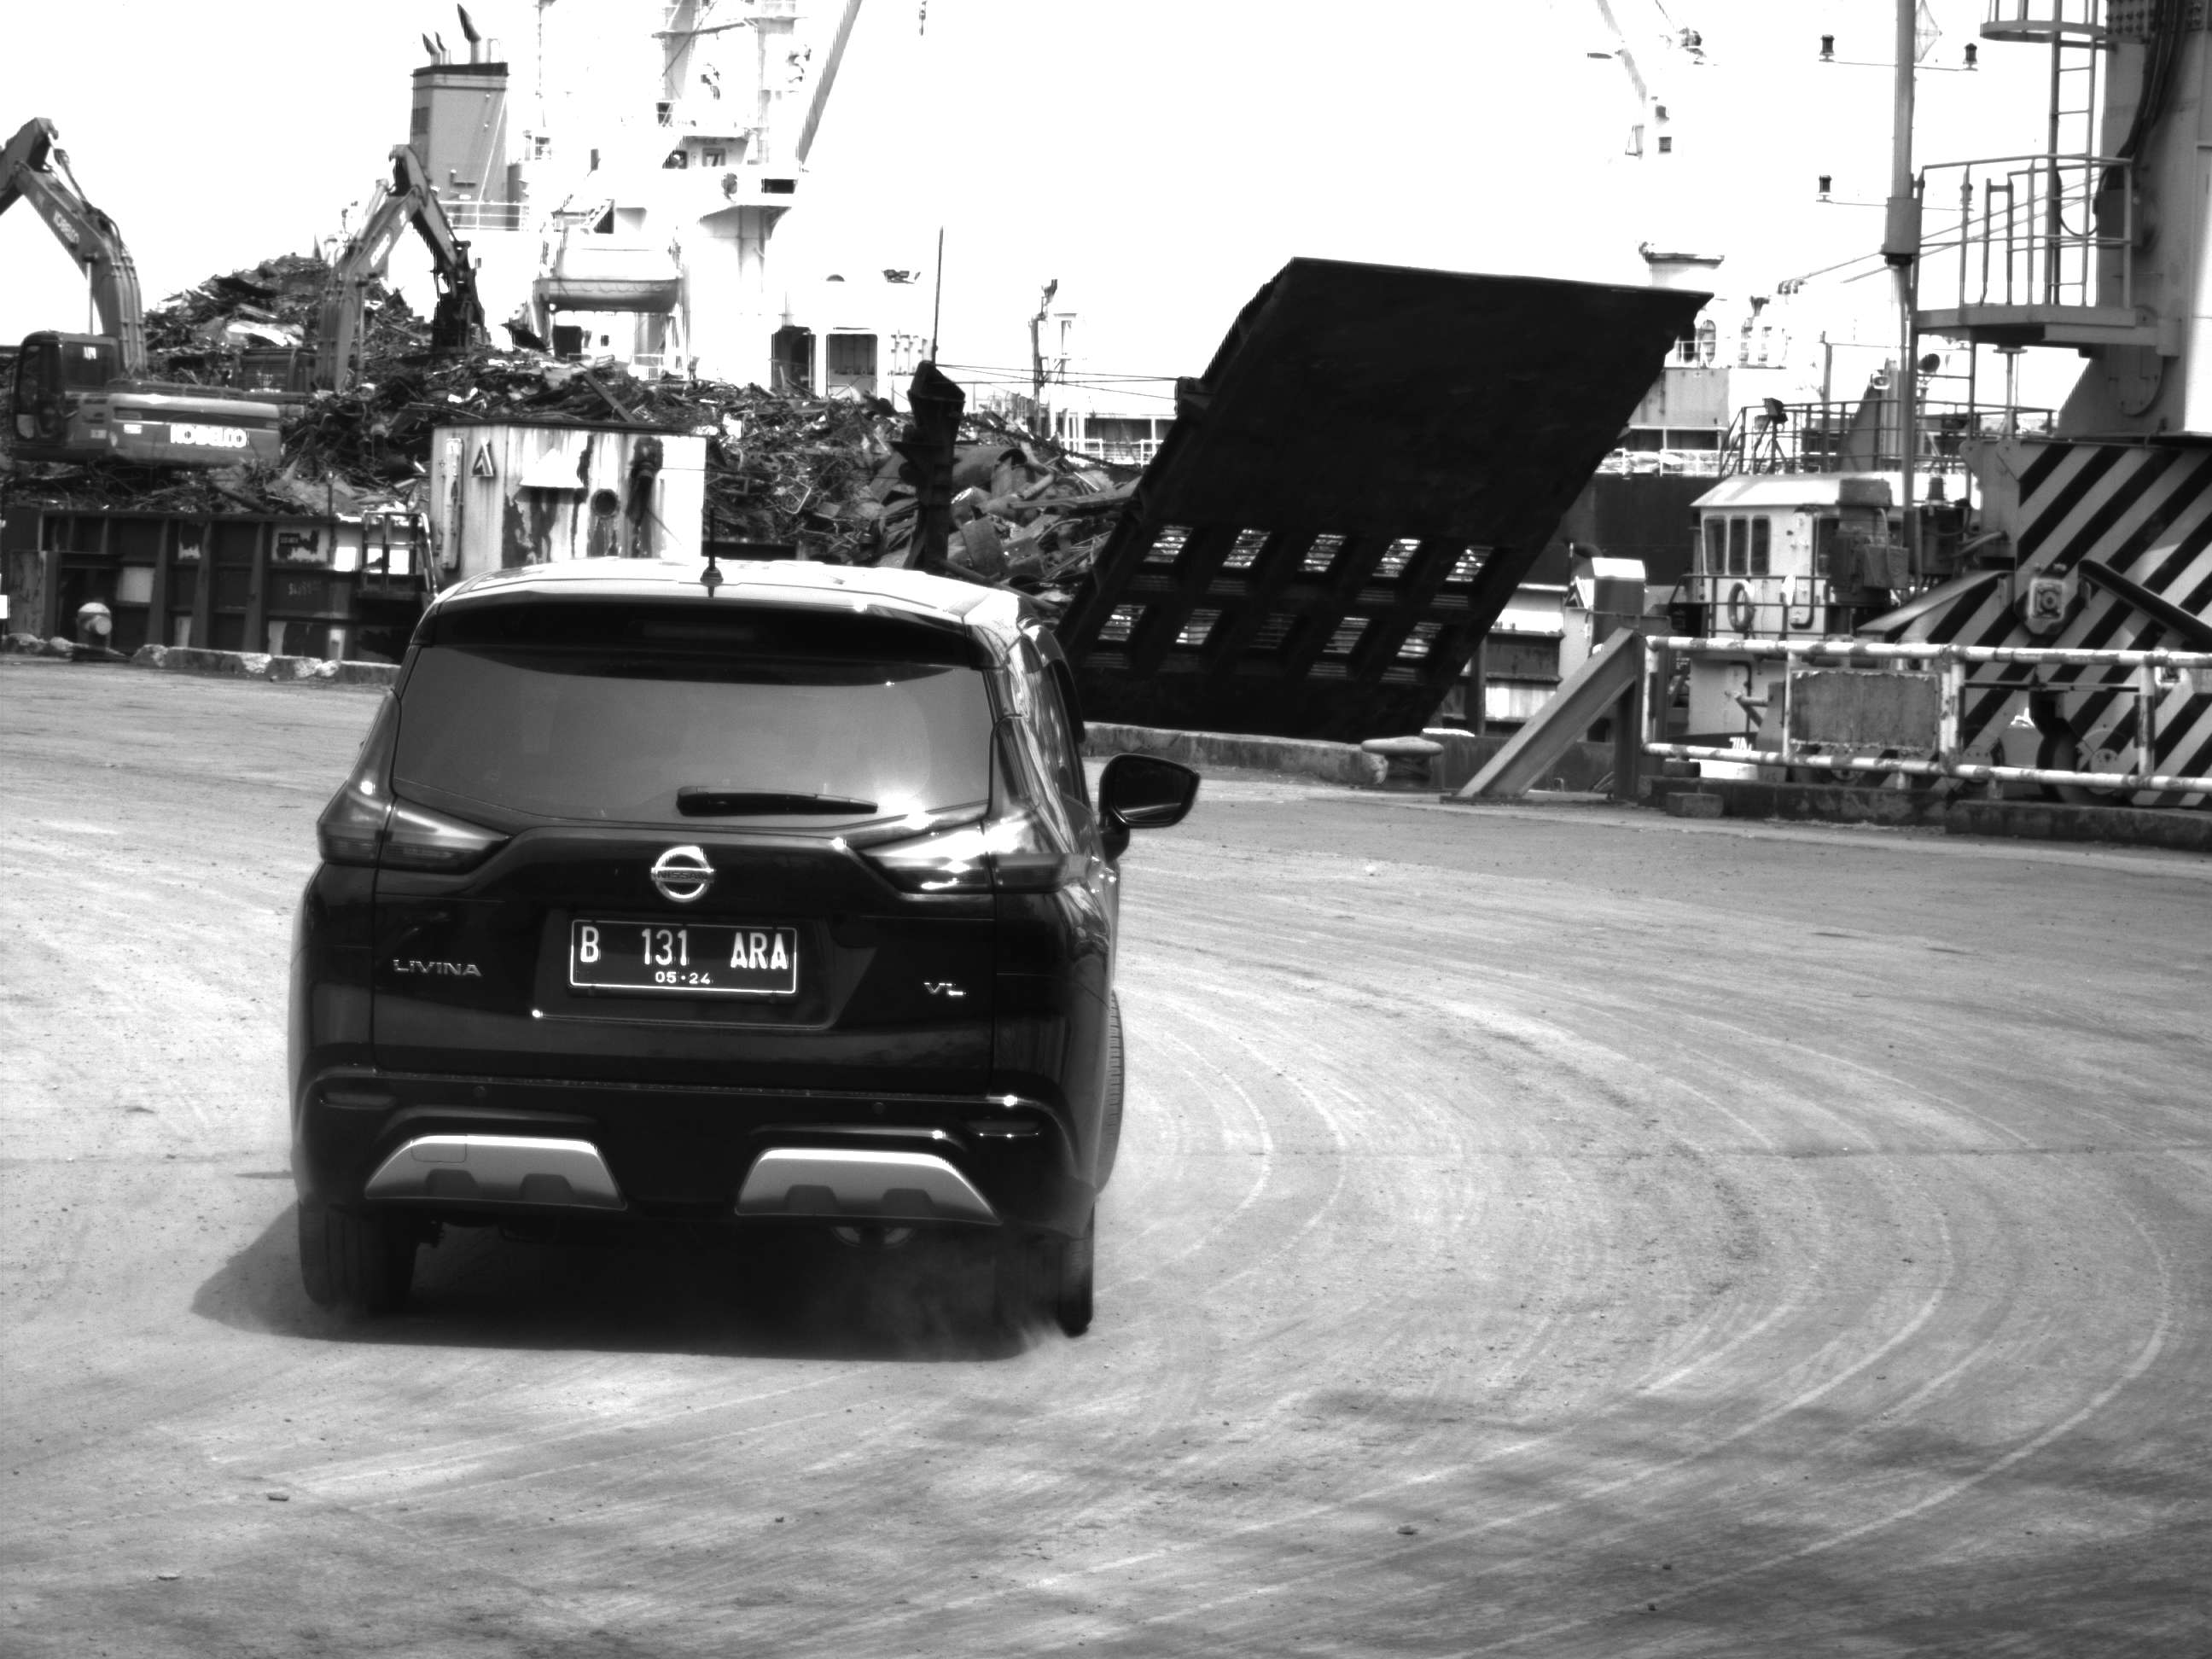car: (256, 500, 1202, 1370)
